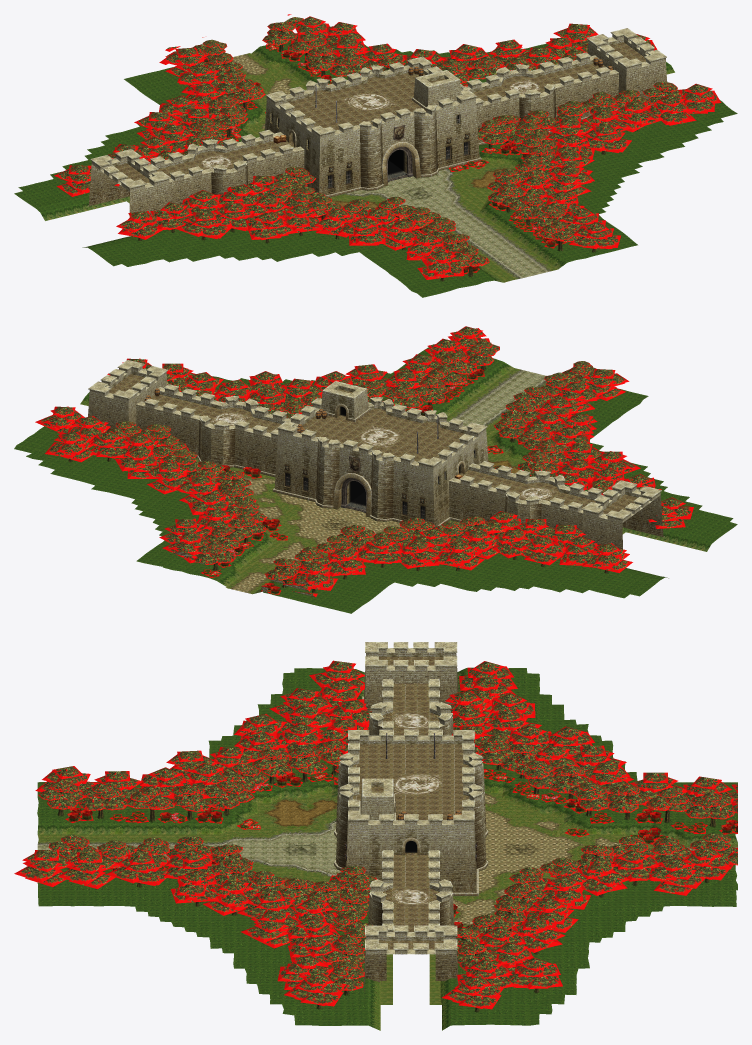
Rendered from SanktheimGate.obj.
The picture shows the model from 3 angles, top to bottom: view 1: azimuth 30°, elevation 25°; view 2: azimuth 150°, elevation 25°; view 3: azimuth 270°, elevation 25°; orthographic projection. The views are drawn at different scales.
Visible parts, largest first — view 1: Object.004; view 2: Object.004; view 3: Object.004.
Boxes of the visible parts, <box> form: Object.004: <box>14,14,737,297</box>; Object.004: <box>14,326,737,613</box>; Object.004: <box>14,642,737,1030</box>.
Bounding box in the file's own units: 138 × 16.8 × 118.
18 materials, 18 textured.
